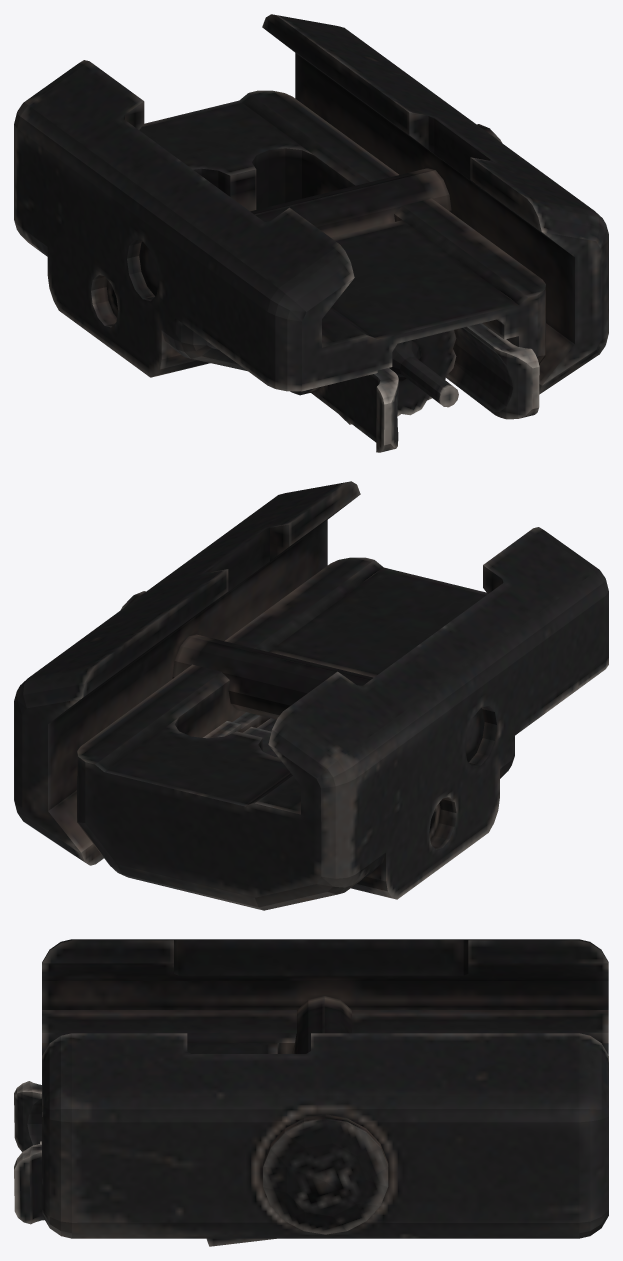
3 views of the same model, one above another, from view 1: azimuth 30°, elevation 25°; view 2: azimuth 150°, elevation 25°; view 3: azimuth 270°, elevation 25° (orthographic).
Visible parts, largest first — view 1: TW_5ba26b01d4351e0085325a51_folded_PZ_Import; view 2: TW_5ba26b01d4351e0085325a51_folded_PZ_Import; view 3: TW_5ba26b01d4351e0085325a51_folded_PZ_Import.
Boxes of the visible parts, x1,y1,x2,y2 form: TW_5ba26b01d4351e0085325a51_folded_PZ_Import: (14, 14, 608, 452); TW_5ba26b01d4351e0085325a51_folded_PZ_Import: (14, 481, 608, 910); TW_5ba26b01d4351e0085325a51_folded_PZ_Import: (14, 939, 608, 1246).
Size of the model in its own units: 0.0184 by 0.0262 by 0.0123.
Materials: 1 (1 with a texture image).
